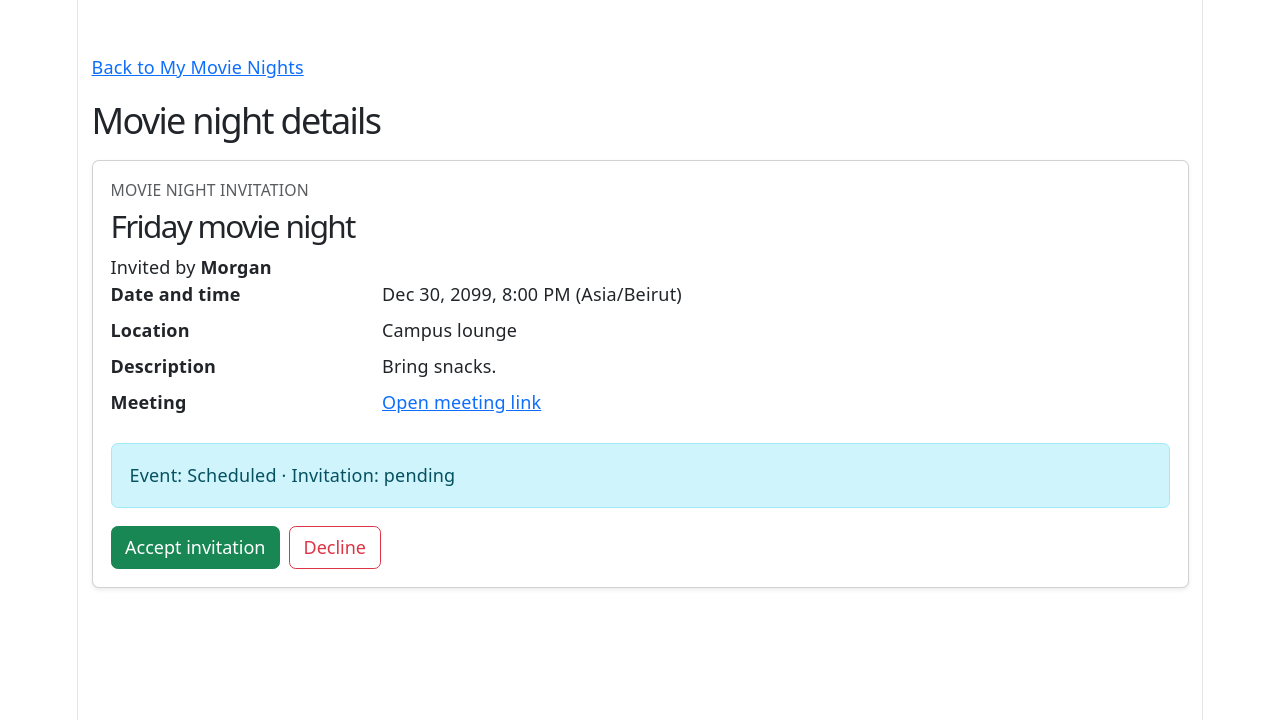
keeps the limited preview visible after declining an invitation
The image size is (1280, 720).
Click the button "Decline" at (335, 547), box [289,526,380,569]
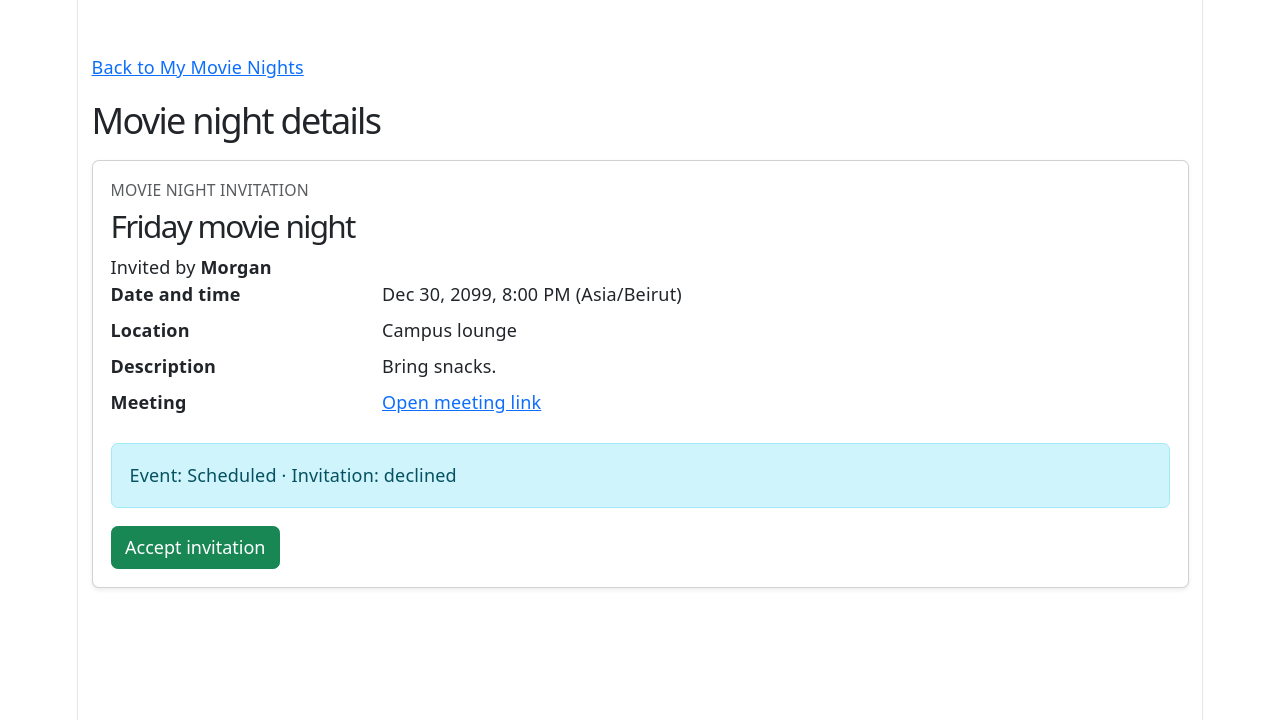
Expected: the heading "Friday movie night" is shown, [110,204,355,247]
Expected: the text "Invitation: declined" is shown, [110,443,1170,508]
